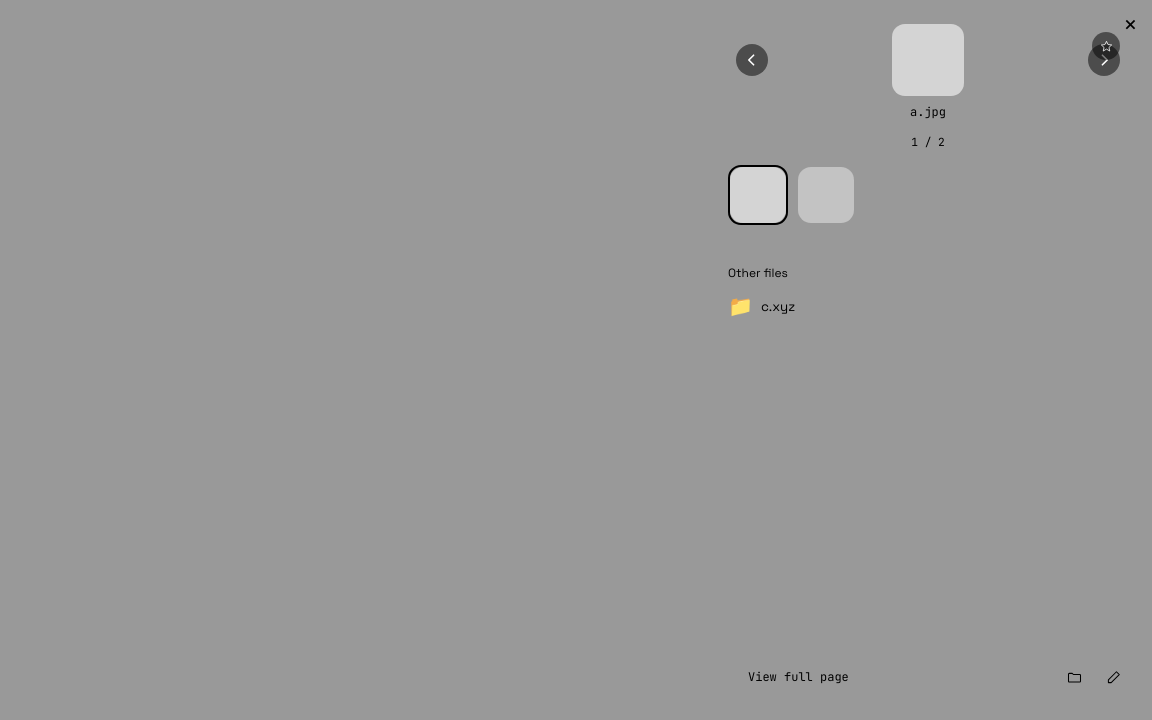
Test: CarouselDialog › shows an error message when openFile fails
Click the text "c.xyz": (778, 306) [761,298,795,315]
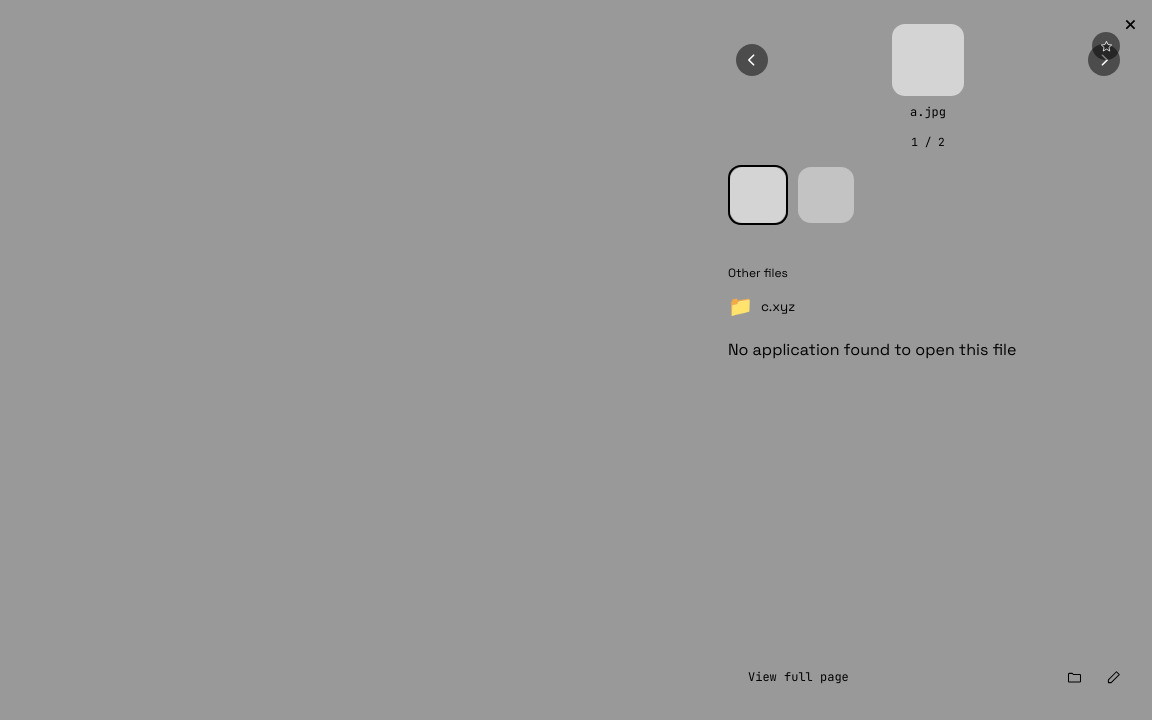
Expected: the message reads "No application found to open this file", [728,339,1016,360]
